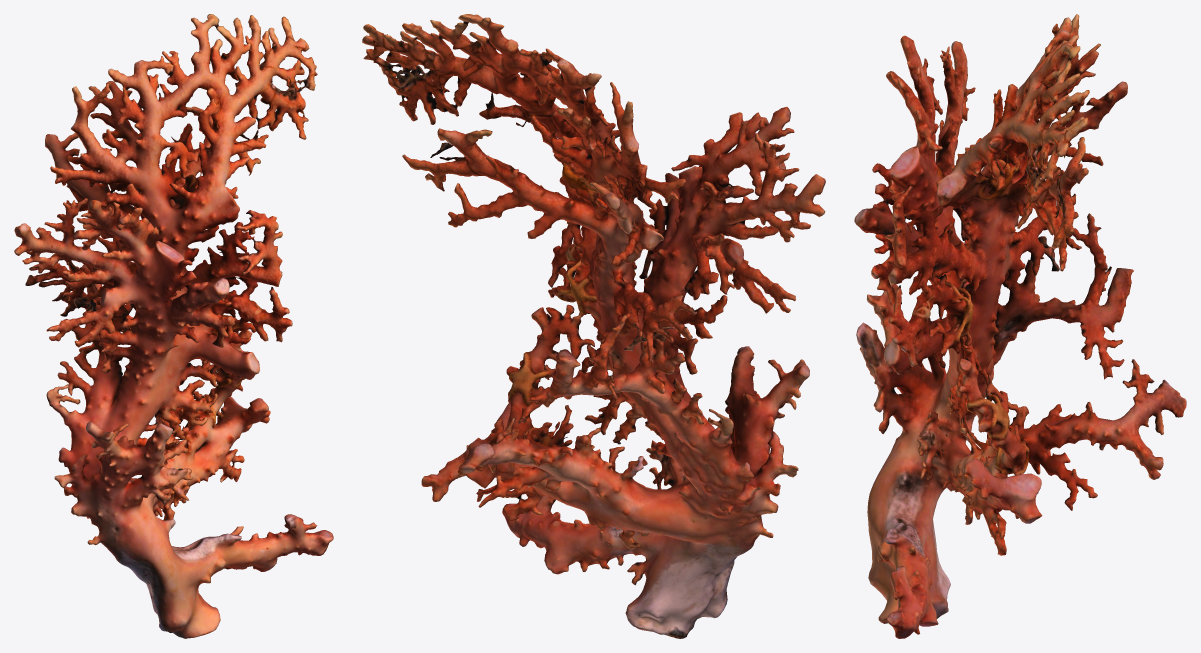
Rendered from Stylaster brochi salmon.fbx.
The picture shows the model from 3 angles, left to right: view 1: azimuth 30°, elevation 25°; view 2: azimuth 150°, elevation 25°; view 3: azimuth 270°, elevation 25°; orthographic projection. The views are drawn at different scales.
Visible parts, largest first — view 1: Mesh_0.001; view 2: Mesh_0.001; view 3: Mesh_0.001.
Part boxes in pixels (x1,y1,x2,y2): Mesh_0.001: [14, 14, 333, 638]; Mesh_0.001: [362, 14, 825, 638]; Mesh_0.001: [854, 14, 1186, 638].
Size of the model in its own units: 629 by 953 by 455.
Materials: 1 (1 with a texture image).
